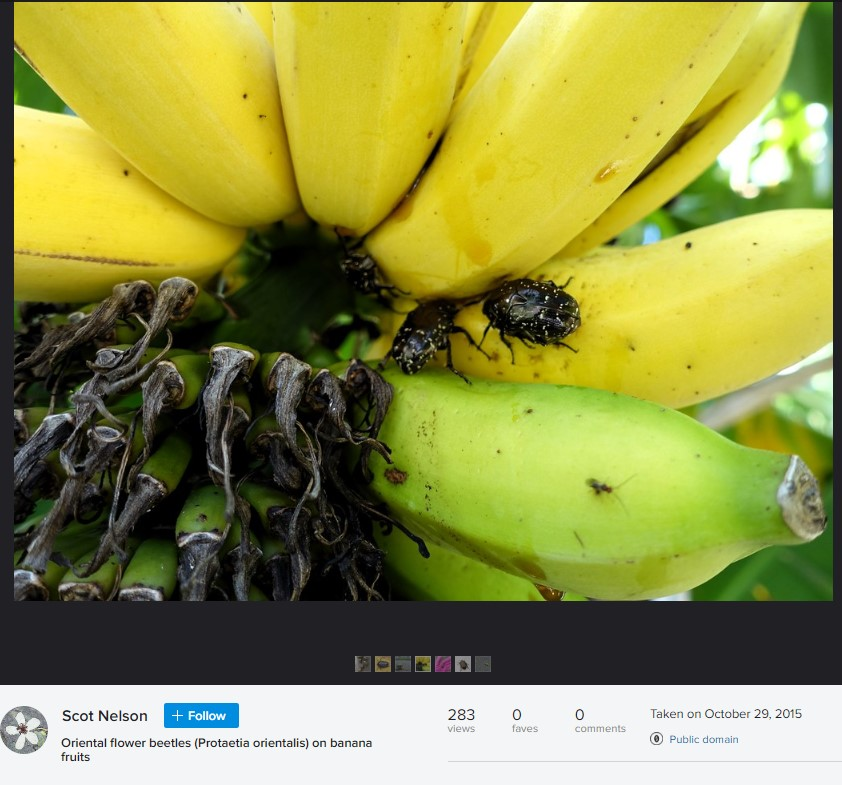Protaetia _orientalis: (482, 264, 588, 362), (378, 285, 481, 383)
